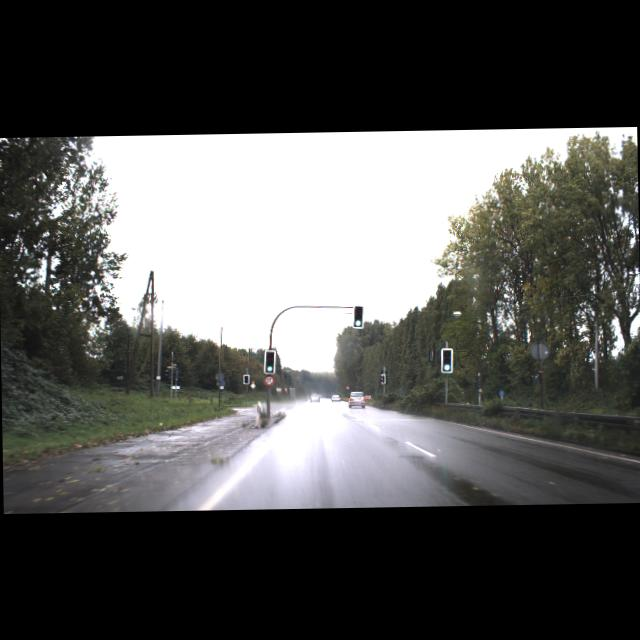prohibitory: (264, 374, 274, 386)
